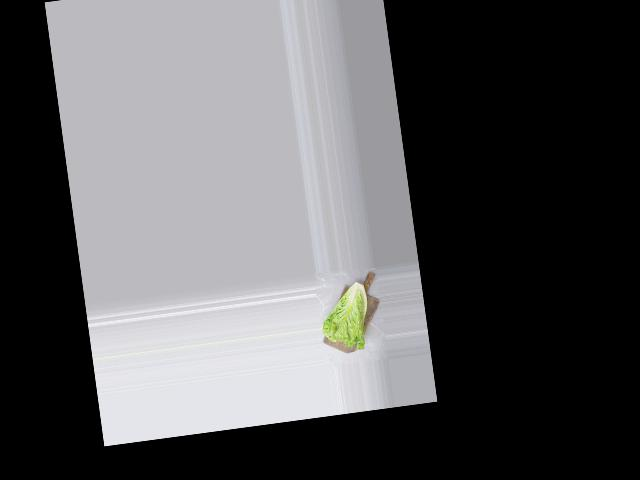lettuce: (316, 277, 380, 354)
